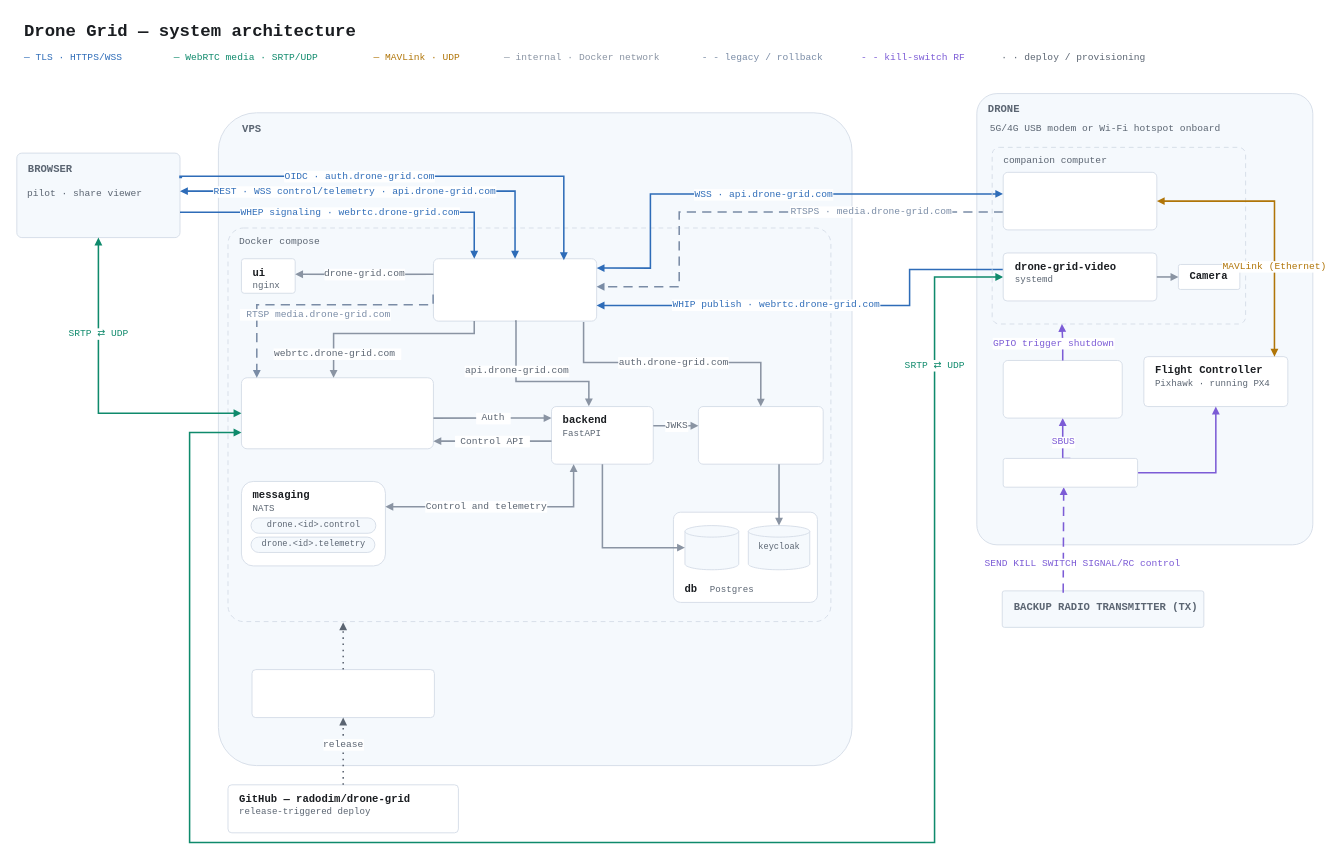
Image size: 1343x866. Some labels were removed from this diagram. The centre of each missing label's shape, as x and y in pixels:
"app" goes at [711,547].
"drone-grid-companion systemd control & telemetry" goes at [1079,200].
"ESP32 kill switch · WIP" goes at [1062,389].
"GitHub Actions runner self-hosted · systemd" goes at [342,693].
"identity Keycloak" goes at [760,435].
"proxy Traefik · TLS :80 → :443 redirect" goes at [514,289].
"RADIO RECEIVER (RX)" goes at [1070,472].
"streaming (media server) Mediamtx auth: delegated to backend" goes at [336,413].
